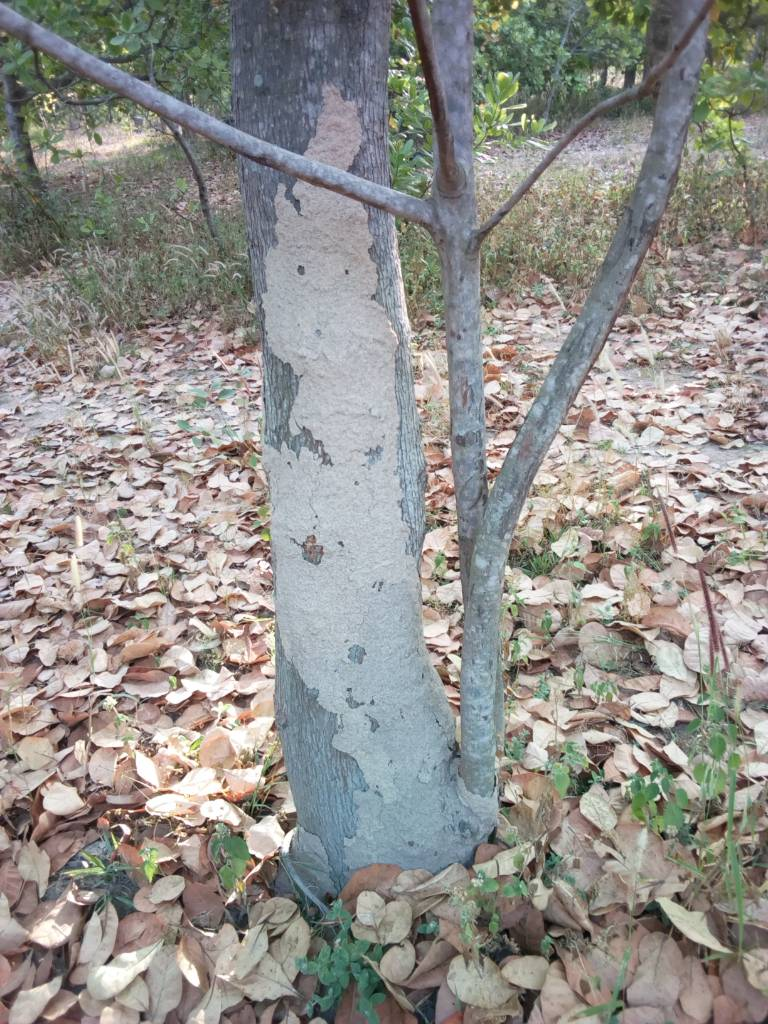Termites: (271, 183, 443, 842)
